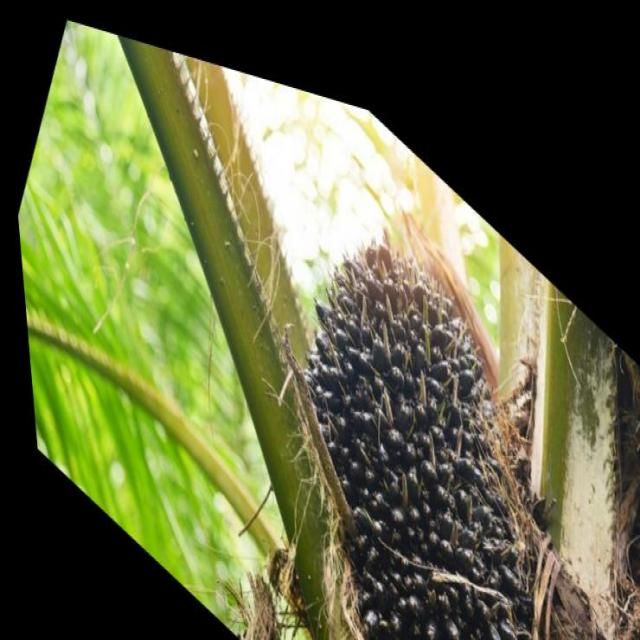Unripe: (209, 136, 633, 640)
